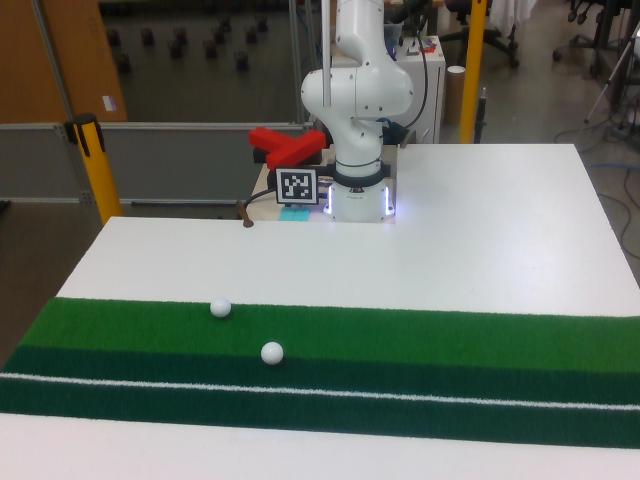golf_balls: (261, 342, 283, 365), (210, 296, 231, 318)
